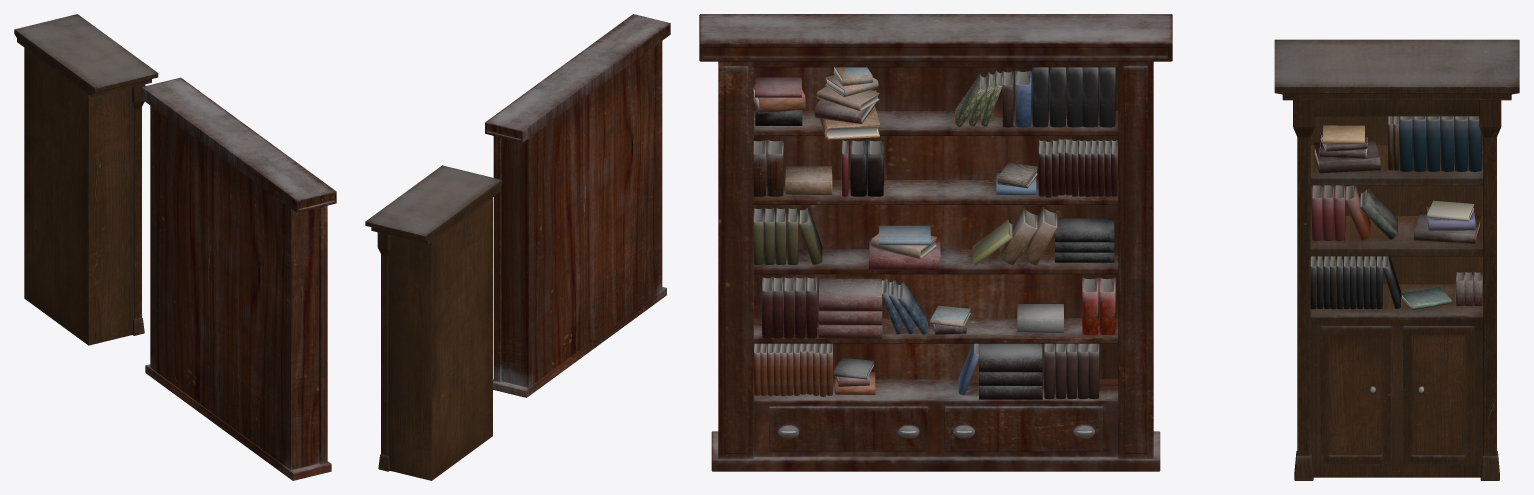
Rendered from dusty_bookshelfs.glb.
The picture shows the model from 3 angles, left to right: view 1: azimuth 30°, elevation 25°; view 2: azimuth 150°, elevation 25°; view 3: azimuth 270°, elevation 25°; orthographic projection. The views are drawn at different scales.
Visible parts, largest first — view 1: bokkshelf', Cube_Cube.001, Cube.001_Cube.002; view 2: bokkshelf', Cube_Cube.001, Cube.001_Cube.002; view 3: bokkshelf', books, Cube_Cube.001, Cube.004_Cube.005, Cube.001_Cube.002, Cube.003_Cube.004, book.017_Cube.021, book.012_Cube.016, book.031_Cube.035, book.018_Cube.022.
Boxes of the visible parts, <box> form: bokkshelf': <box>141,77,336,480</box>; Cube_Cube.001: <box>14,14,158,345</box>; Cube.001_Cube.002: <box>132,84,145,335</box>; bokkshelf': <box>485,14,670,397</box>; Cube_Cube.001: <box>365,165,502,480</box>; Cube.001_Cube.002: <box>377,232,390,471</box>; bokkshelf': <box>699,14,1172,471</box>; books: <box>753,67,1117,399</box>; Cube_Cube.001: <box>1274,39,1519,477</box>; Cube.004_Cube.005: <box>1320,326,1474,464</box>; Cube.001_Cube.002: <box>1293,100,1501,480</box>; Cube.003_Cube.004: <box>1310,145,1483,256</box>; book.017_Cube.021: <box>1314,139,1380,173</box>; book.012_Cube.016: <box>1414,212,1480,243</box>; book.031_Cube.035: <box>1359,187,1397,239</box>; book.018_Cube.022: <box>1322,125,1364,144</box>.
Size of the model in its own units: 0.7038 by 3.04 by 5.2.
Materials: 4 (4 with a texture image).
